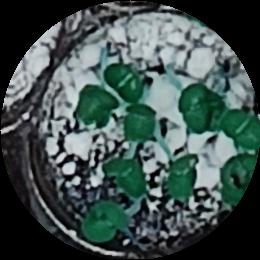Basil: (221, 154, 260, 202), (80, 203, 124, 241), (105, 155, 146, 195), (107, 66, 151, 101), (225, 104, 260, 148), (169, 146, 196, 201), (78, 88, 113, 122), (183, 87, 210, 129), (125, 106, 154, 144)
